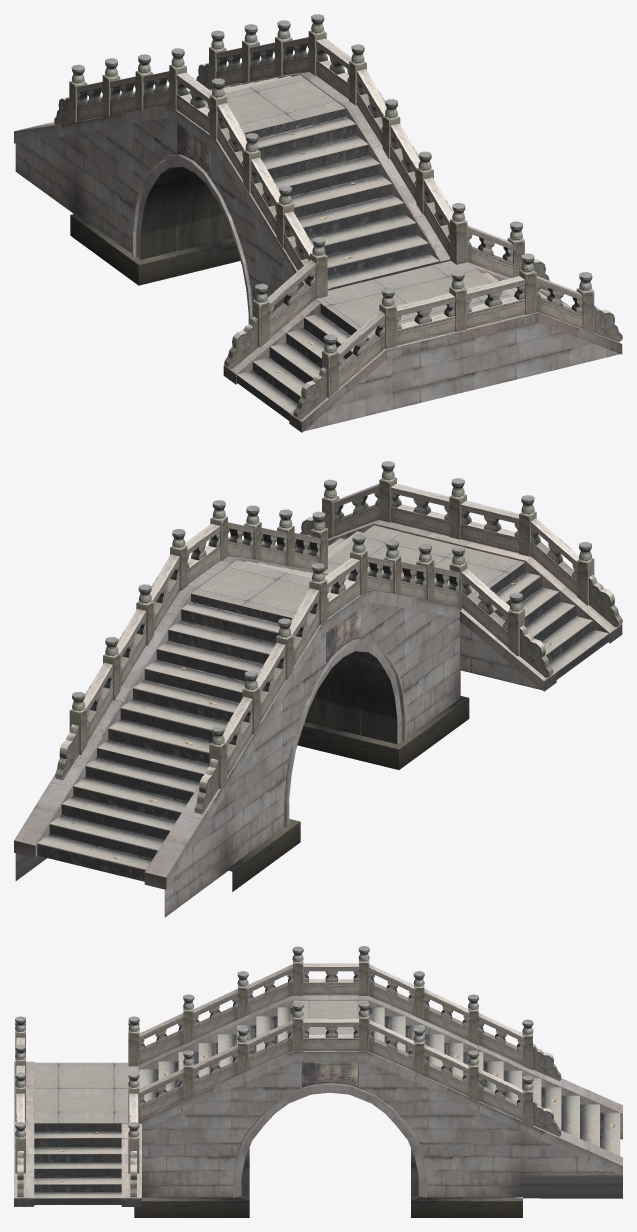
File: Building_BridgeWSQ.FBX
The picture shows the model from 3 angles, top to bottom: view 1: azimuth 30°, elevation 25°; view 2: azimuth 150°, elevation 25°; view 3: azimuth 270°, elevation 25°; orthographic projection. The views are drawn at different scales.
Visible parts, largest first — view 1: Building_BridgeWSQ; view 2: Building_BridgeWSQ; view 3: Building_BridgeWSQ.
Part boxes in pixels (<box>): Building_BridgeWSQ: <box>14,14,622,432</box>; Building_BridgeWSQ: <box>14,461,622,917</box>; Building_BridgeWSQ: <box>14,946,622,1217</box>.
Bounding box in the file's own units: 851 × 1684 × 632.
